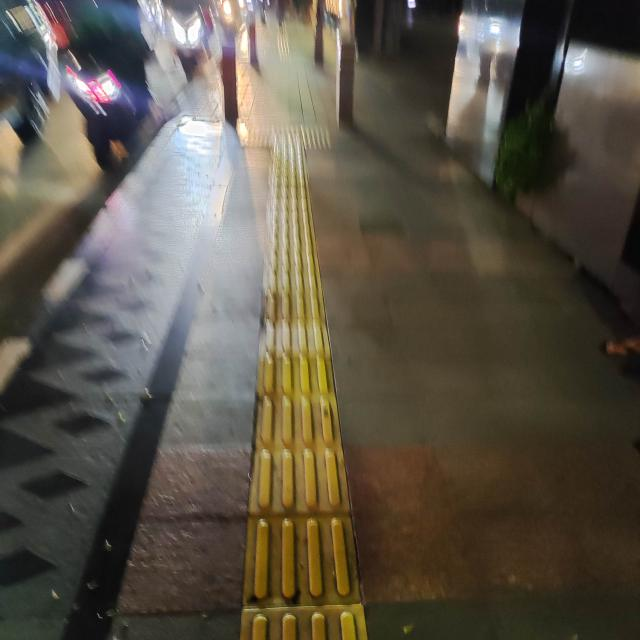lurus: (254, 125, 356, 638)
